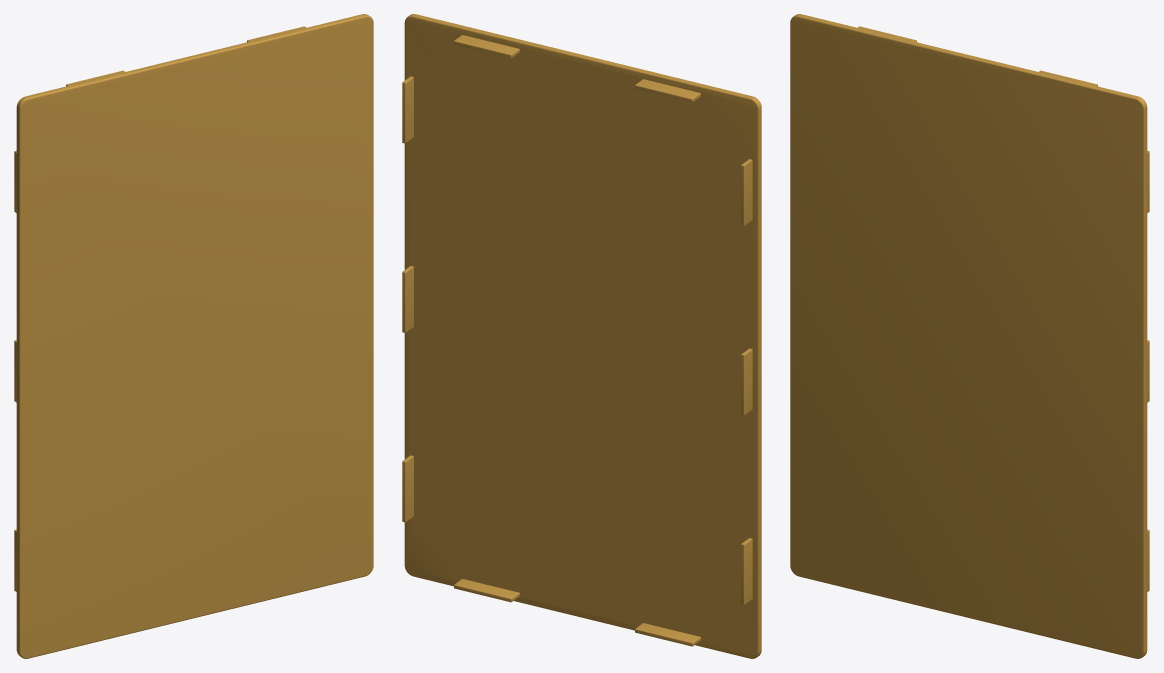
The picture shows the model from 3 angles, left to right: view 1: azimuth 30°, elevation 25°; view 2: azimuth 150°, elevation 25°; view 3: azimuth 330°, elevation 25°; orthographic projection.
Parts seen in each view (by area): view 1: MC23R_Gold; view 2: MC23R_Gold; view 3: MC23R_Gold.
Part boxes in pixels (x1=…): MC23R_Gold: x1=14, y1=14, x2=373, y2=658; MC23R_Gold: x1=402, y1=14, x2=761, y2=658; MC23R_Gold: x1=790, y1=14, x2=1149, y2=658.
Size of the model in its own units: 196 by 296 by 11.4.
